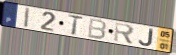2: (40, 12, 58, 33)
B: (87, 17, 108, 41)
I: (23, 7, 31, 29)
J: (138, 28, 155, 47)
R: (113, 22, 136, 47)
T: (67, 14, 85, 37)
